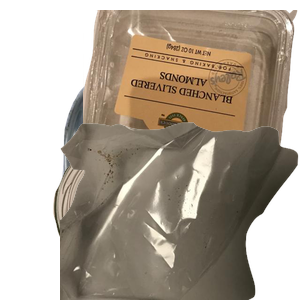glass: (50, 131, 252, 300)
metal: (60, 44, 300, 224)
plastic: (83, 10, 300, 190)
trash: (60, 120, 300, 300)
